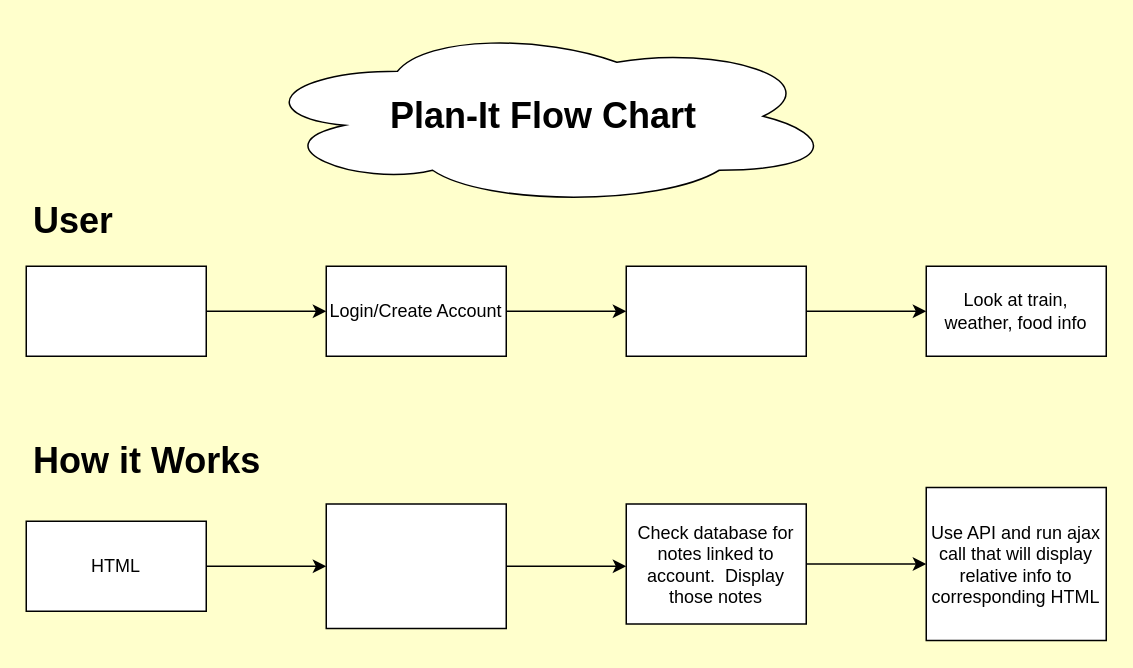
Image size: 1133x668. Some labels were removed from this diagram. Each missing label, with the centre of its shape:
Check, add, delete notes: point (715, 310)
Firebase authentication. Store alias in firebase database: point (415, 565)
Home Page: point (115, 310)
